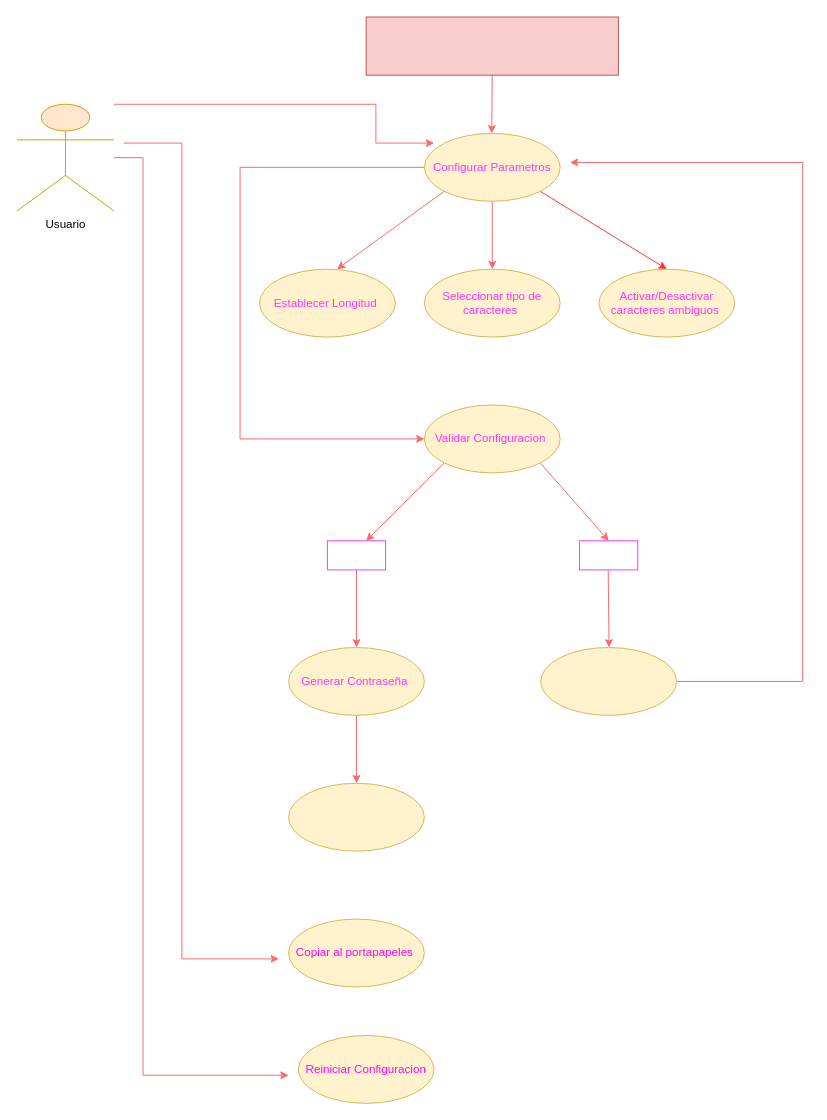
This 827x1120 diagram has some shape labels left out. Here are the shapes that lost their labels. From the top down, the box of each, then its label:
(365, 16, 618, 75): Generador seguro de contraseñas
(326, 540, 386, 570): Todo Bien
(579, 540, 638, 570): Error
(540, 647, 677, 715): Mostrar mensaje de error
(288, 782, 424, 851): Mostrar Contraseña
